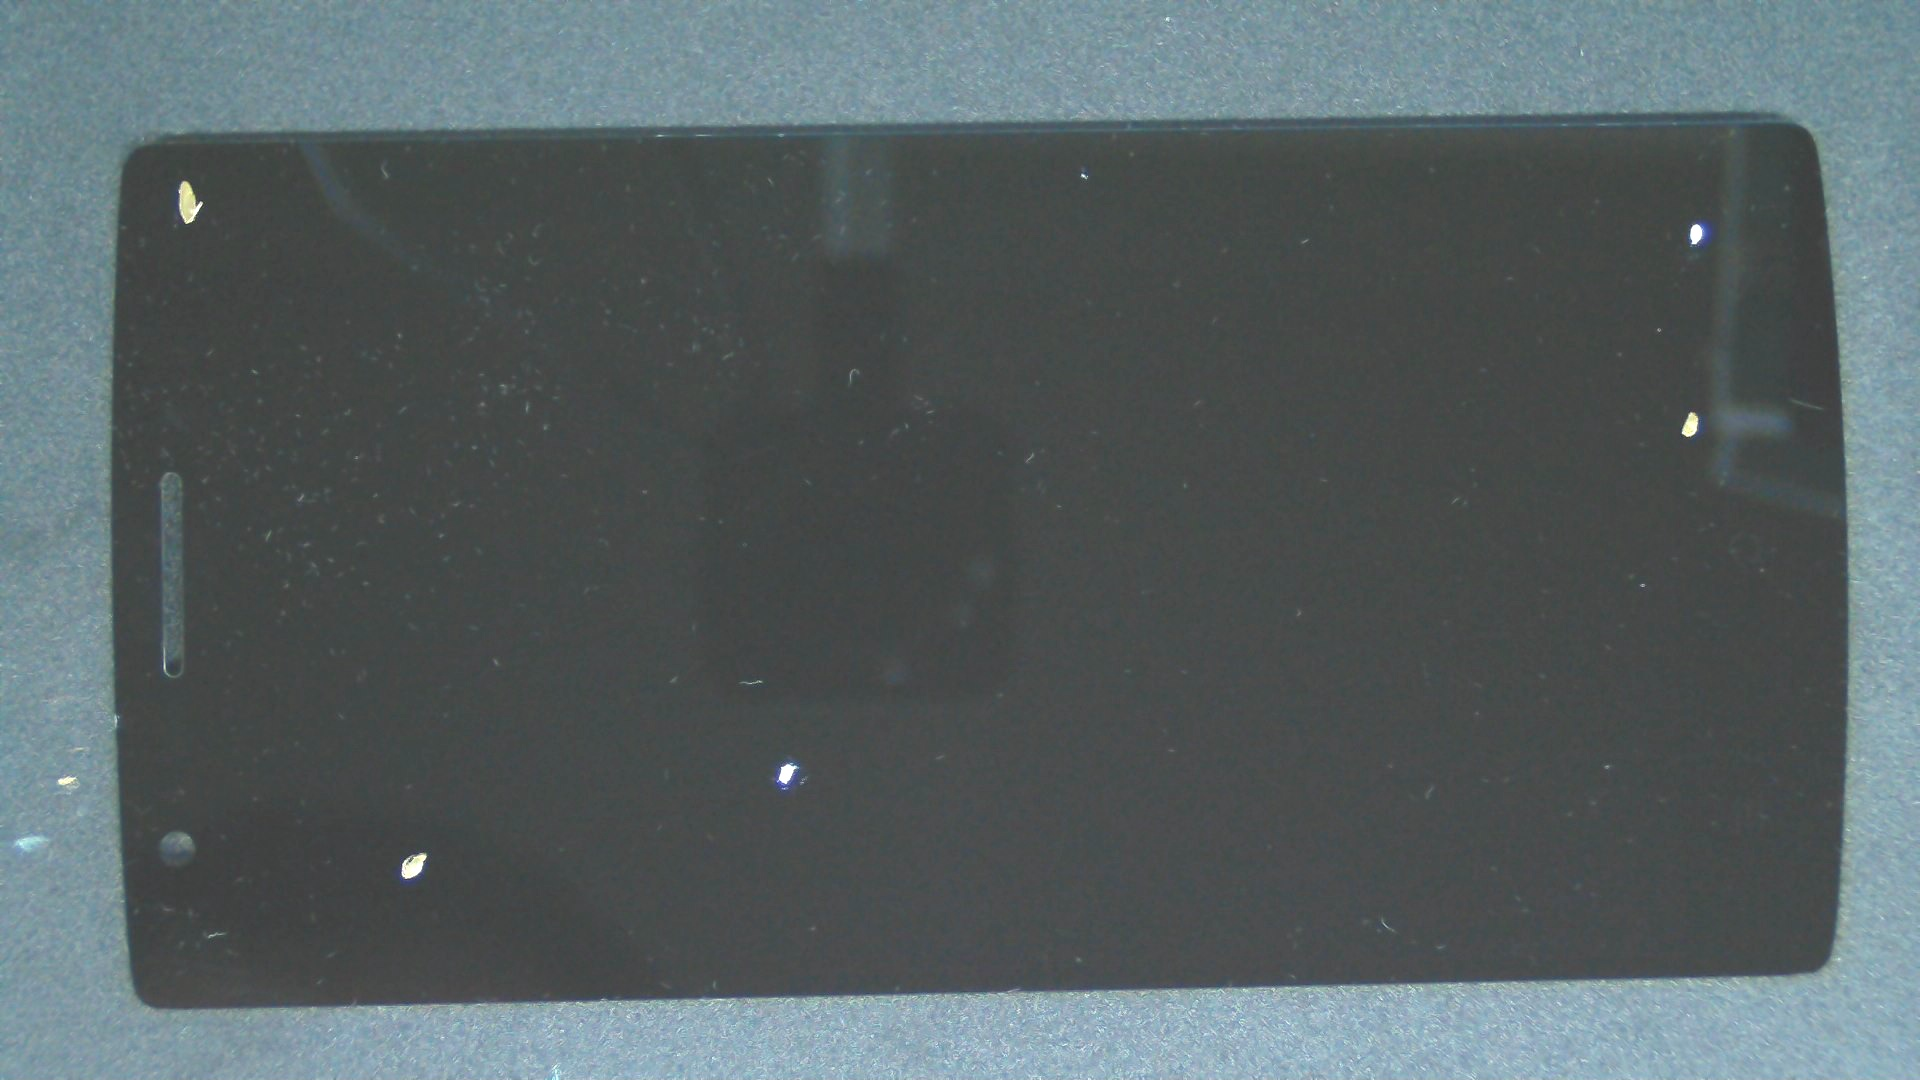oil: (404, 387, 1209, 1080), (397, 380, 1187, 1080), (846, 205, 1920, 616), (210, 426, 628, 1080), (847, 110, 1920, 335), (92, 89, 273, 269)
